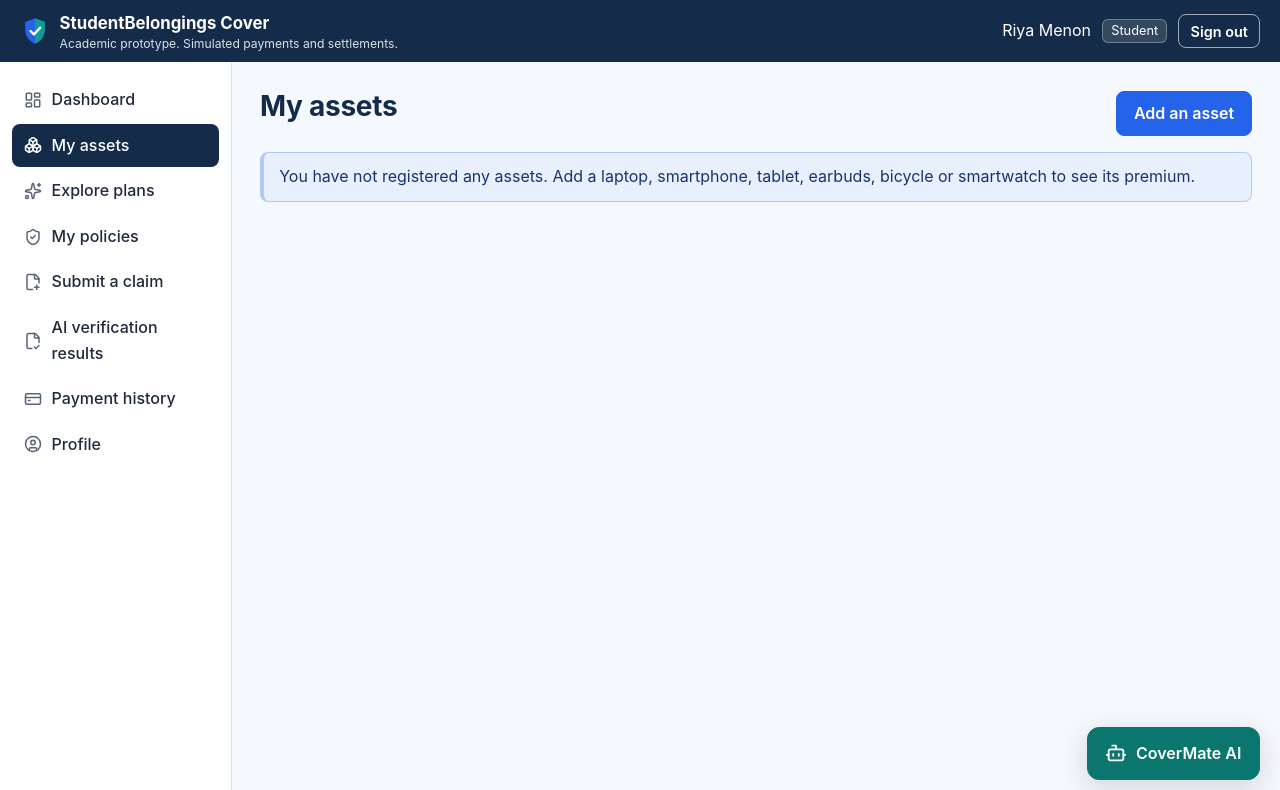
Scenario: asset registration and eligibility › requires the front and back photographs and details before registering, but not an invoice
Click the button "Add an asset" at coordinates (1184, 113), box 1116,91 -> 1252,136
(page scrolled)
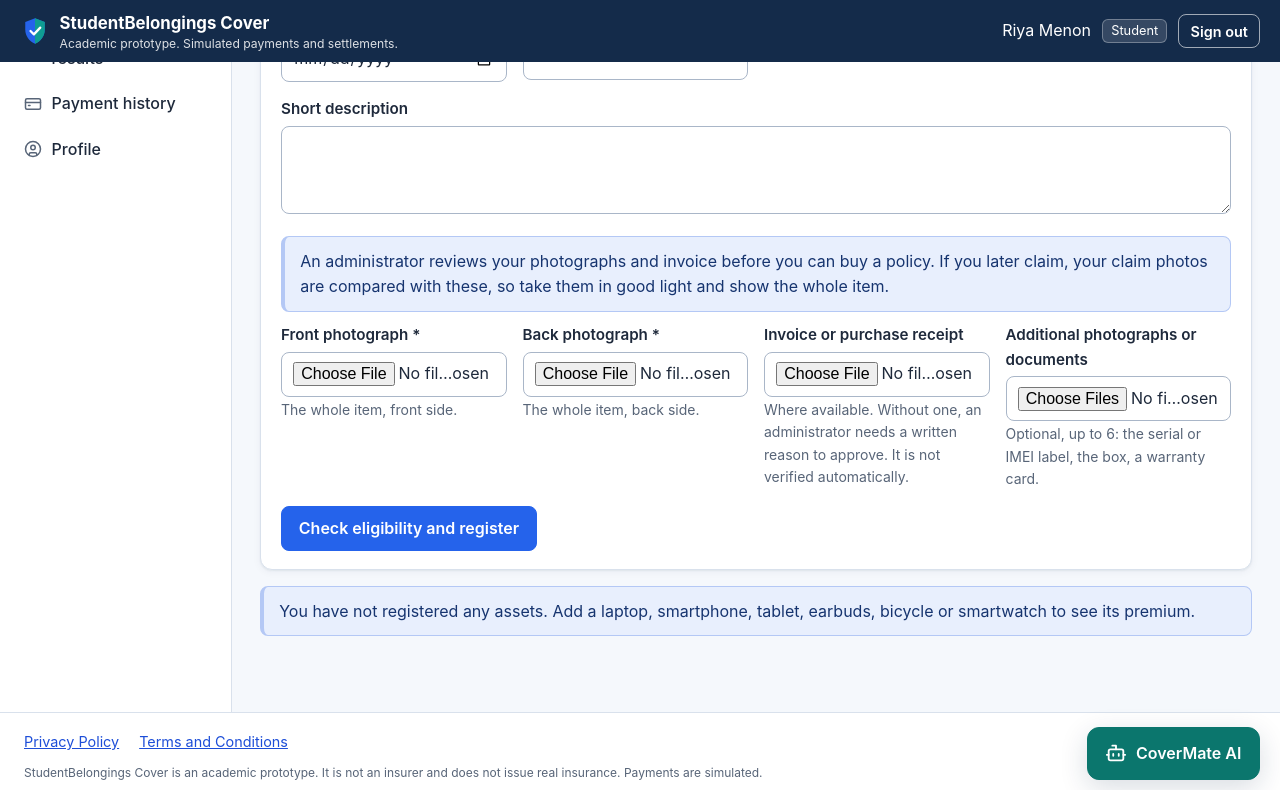
Click the button "Check eligibility and register" at coordinates (409, 528), box 281,506 -> 537,551
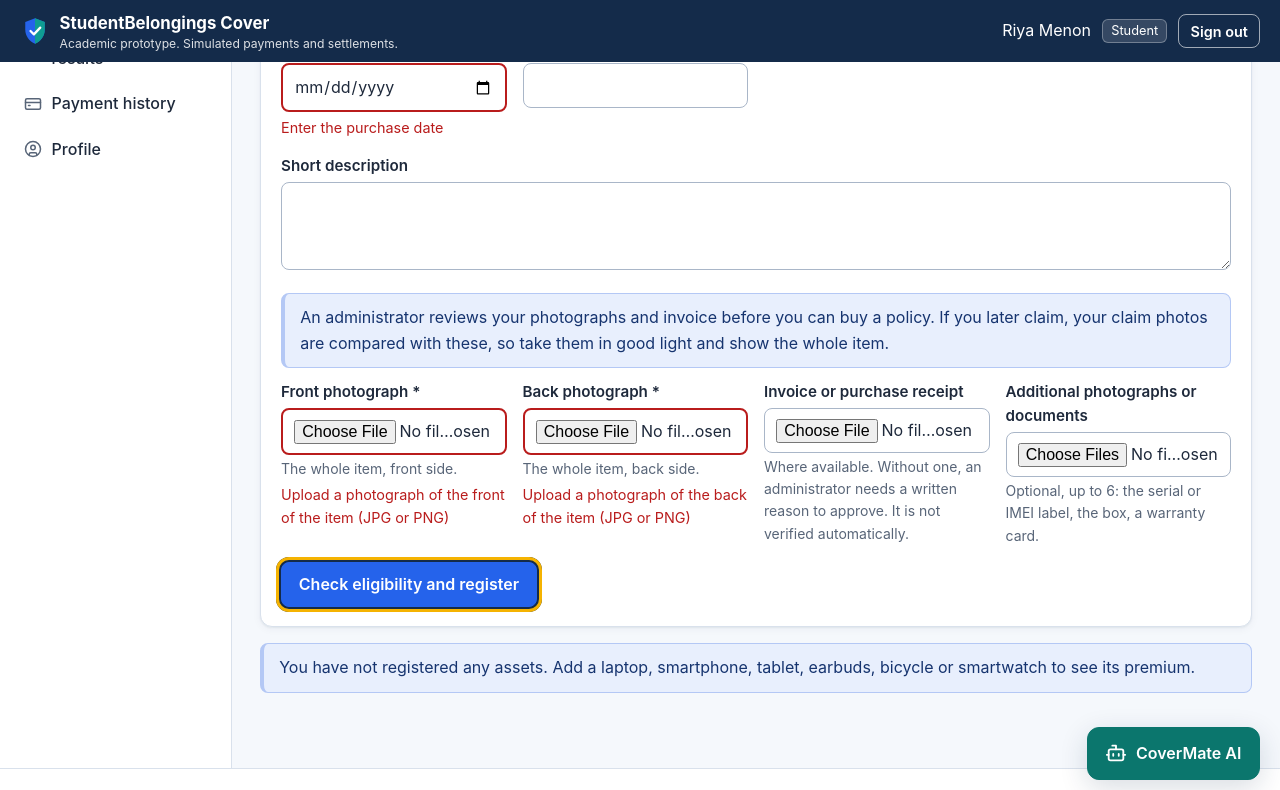
Now the text "Upload a photograph of the front of the item (JPG or PNG)" is shown, box 281,483 -> 506,529
Now the text "Upload a photograph of the back of the item (JPG or PNG)" is shown, box 522,483 -> 748,529
